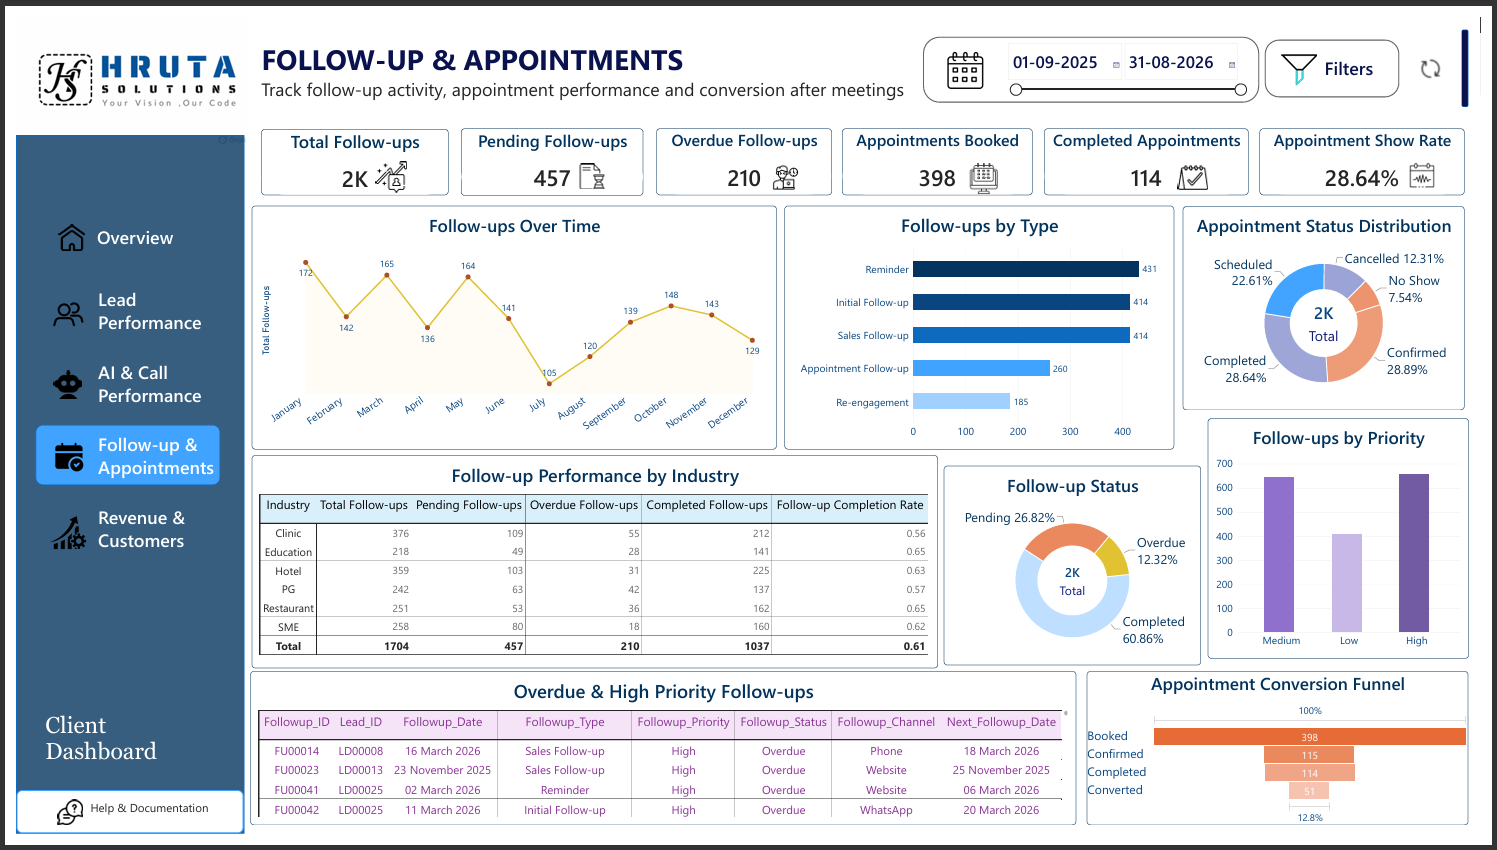

The page's visual inventory and layout, read from the dashboard file:
{"tool":"powerbi","page":{"name":"FOLLOW-UP & APPOINTMENTS","canvas":[3050,1700],"ordinal":3},"visuals":[{"type":"image","box":[0,0,486,270],"z":0},{"type":"shape","box":[0,246,474,1454],"z":1000},{"type":"textbox","box":[59.8,1447.1,364.6,162.4],"z":2000},{"type":"shape","box":[3010.7,25,14.3,160.7],"z":3000},{"type":"shape","box":[39.9,848.9,384.6,125.3],"z":4000},{"type":"textbox","box":[40,431.7,373.3,91.7],"z":5000},{"type":"image","box":[71.7,431.7,86.7,55],"z":6000},{"type":"textbox","box":[170,560,288.3,123.3],"z":7000},{"type":"textbox","box":[170,713.3,243.3,106.7],"z":8000},{"type":"textbox","box":[170,863.3,288.3,103.3],"z":9000},{"type":"textbox","box":[170,1015,255,111.7],"z":10000},{"type":"shape","box":[0,1610,473.3,90],"z":11000},{"type":"textbox","box":[112,1630,346,70],"z":12000},{"type":"image","box":[71.7,881.7,75,68.3],"z":13000},{"type":"image","box":[60,1035,95,76.7],"z":14000},{"type":"image","box":[78.3,731.7,60,68.3],"z":15000},{"type":"image","box":[73.3,576.7,70,90],"z":16000},{"type":"image","box":[70,1630,85,53.3],"z":17000},{"type":"textbox","box":[509.9,45.6,1549.6,162.4],"z":18000},{"type":"shape","box":[1888.6,39.9,700.7,136.7],"z":19000},{"type":"shape","box":[2600.7,45.6,280,120],"z":20000},{"type":"textbox","box":[2674.8,79.8,202.2,82.6],"z":21000},{"type":"image","box":[2626.4,71.2,95,75],"z":22000},{"type":"cardVisual","title":"Total Follow-ups","fields":{"Data":["AIHuman.Total Follow-ups"]},"box":[510,231.7,390,138.3],"z":23000},{"type":"cardVisual","title":"Pending Follow-ups","fields":{"Data":["Customers.Pending Follow-ups"]},"box":[925.7,231.4,380,140],"z":24000},{"type":"cardVisual","title":"Overdue Follow-ups","fields":{"Data":["Followups.Overdue Follow-ups"]},"box":[1332.9,231.4,365.7,138.6],"z":25000},{"type":"cardVisual","title":"Appointments Booked","fields":{"Data":["Appointments.Appointments_Booked"]},"box":[1720,231.4,397.1,138.6],"z":26000},{"type":"cardVisual","title":"Completed Appointments","fields":{"Data":["Appointments.Completed_Appointments"]},"box":[2141.4,231.4,425.7,138.6],"z":27000},{"type":"cardVisual","title":"Appointment Show Rate","fields":{"Data":["Appointments.Appointment Show Rate"]},"box":[2590,231.4,427.1,138.6],"z":28000},{"type":"slicer","fields":{"Values":["Leads.Lead_Date"]},"box":[2059.5,48.4,507,159.5],"z":29000},{"type":"actionButton","box":[2892.9,58.6,106.7,96.7],"z":30000},{"type":"actionButton","box":[2626.4,71.2,95,75],"z":31000},{"type":"image","box":[1931.3,65.5,92,88],"z":32000},{"type":"image","box":[2893.3,301.7,70,53.3],"z":33000},{"type":"image","box":[2411.7,301.7,78.3,63.3],"z":34000},{"type":"image","box":[1976.7,305,76.7,63.3],"z":35000},{"type":"image","box":[1525,301.7,155,63.3],"z":36000},{"type":"image","box":[1133.3,305,131.7,53.3],"z":37000},{"type":"image","box":[718.3,300,126.7,65],"z":38000},{"type":"lineChart","title":"Follow-ups Over Time","fields":{"Category":["Followups.Followup_Date.Variation.Date Hierarchy.Month"],"Y":["AIHuman.Total Follow-ups"]},"box":[490,392,1094,508],"z":39000},{"type":"donutChart","title":"Follow-up Status","fields":{"Category":["Followups.Followup_Status"],"Y":["AIHuman.Total Follow-ups"]},"box":[1932,934,536,416],"z":40000},{"type":"clusteredColumnChart","title":"Follow-ups by Priority","fields":{"Category":["Followups.Followup_Priority"],"Y":["AIHuman.Total Follow-ups"]},"box":[2481.7,835,544.1,501.3],"z":41000},{"type":"clusteredBarChart","title":"Follow-ups by Type","fields":{"Category":["Followups.Followup_Type"],"Y":["AIHuman.Total Follow-ups"]},"box":[1600,392,812,508],"z":42000},{"type":"donutChart","title":"Appointment Status Distribution","fields":{"Category":["Appointments.Appointment_Status"],"Y":["Appointments.Appointments_Booked"]},"box":[2429.8,393.1,586.8,424.4],"z":43000},{"type":"funnel","title":"Appointment Conversion Funnel","fields":{"Category":["AppointmentFunnel.Stage"],"Y":["AIHuman.Appointment Funnel Value"]},"box":[2230.4,1361.6,794.7,321.9],"z":44000},{"type":"pivotTable","title":"Follow-up Performance by Industry","fields":{"Rows":["Leads.Industry"],"Values":["AIHuman.Total Follow-ups","Customers.Pending Follow-ups","Followups.Overdue Follow-ups","Followups.Completed Follow-ups","Followups.Follow-up Completion Rate"]},"box":[489.9,911.5,1430,444],"z":45000},{"type":"tableEx","title":"Overdue & High Priority Follow-ups","fields":{"Values":["Followups.Followup_ID","Followups.Lead_ID","Followups.Followup_Date","Followups.Followup_Type","Followups.Followup_Priority","Followups.Followup_Status","Followups.Followup_Channel","Followups.Next_Followup_Date"]},"box":[487.1,1361.6,1720.5,321.9],"z":46000},{"type":"actionButton","box":[39.9,1002.7,373.2,122.5],"z":47000},{"type":"actionButton","box":[14.2,418.7,427.3,122.5],"z":48000},{"type":"actionButton","box":[48.4,561.2,393.1,108.2],"z":49000},{"type":"actionButton","box":[28.5,700.7,413,133.9],"z":50000}]}

Visuals, with their boxes on the page's 3050x1700 design canvas (x1, y1, x2, y2). These are canvas units, not pixel positions in the 1497x850 screenshot, which may show the page scaled, cropped or inside an application window:
image: <box>0,0,486,270</box>
shape: <box>0,246,474,1700</box>
textbox: <box>60,1447,424,1610</box>
shape: <box>3011,25,3025,186</box>
shape: <box>40,849,424,974</box>
textbox: <box>40,432,413,523</box>
image: <box>72,432,158,487</box>
textbox: <box>170,560,458,683</box>
textbox: <box>170,713,413,820</box>
textbox: <box>170,863,458,967</box>
textbox: <box>170,1015,425,1127</box>
shape: <box>0,1610,473,1700</box>
textbox: <box>112,1630,458,1700</box>
image: <box>72,882,147,950</box>
image: <box>60,1035,155,1112</box>
image: <box>78,732,138,800</box>
image: <box>73,577,143,667</box>
image: <box>70,1630,155,1683</box>
textbox: <box>510,46,2060,208</box>
shape: <box>1889,40,2589,177</box>
shape: <box>2601,46,2881,166</box>
textbox: <box>2675,80,2877,162</box>
image: <box>2626,71,2721,146</box>
"Total Follow-ups" cardVisual: <box>510,232,900,370</box>
"Pending Follow-ups" cardVisual: <box>926,231,1306,371</box>
"Overdue Follow-ups" cardVisual: <box>1333,231,1699,370</box>
"Appointments Booked" cardVisual: <box>1720,231,2117,370</box>
"Completed Appointments" cardVisual: <box>2141,231,2567,370</box>
"Appointment Show Rate" cardVisual: <box>2590,231,3017,370</box>
slicer - Leads.Lead_Date: <box>2060,48,2566,208</box>
actionButton: <box>2893,59,3000,155</box>
actionButton: <box>2626,71,2721,146</box>
image: <box>1931,66,2023,154</box>
image: <box>2893,302,2963,355</box>
image: <box>2412,302,2490,365</box>
image: <box>1977,305,2053,368</box>
image: <box>1525,302,1680,365</box>
image: <box>1133,305,1265,358</box>
image: <box>718,300,845,365</box>
"Follow-ups Over Time" lineChart: <box>490,392,1584,900</box>
"Follow-up Status" donutChart: <box>1932,934,2468,1350</box>
"Follow-ups by Priority" clusteredColumnChart: <box>2482,835,3026,1336</box>
"Follow-ups by Type" clusteredBarChart: <box>1600,392,2412,900</box>
"Appointment Status Distribution" donutChart: <box>2430,393,3017,818</box>
"Appointment Conversion Funnel" funnel: <box>2230,1362,3025,1684</box>
"Follow-up Performance by Industry" pivotTable: <box>490,912,1920,1356</box>
"Overdue & High Priority Follow-ups" tableEx: <box>487,1362,2208,1684</box>
actionButton: <box>40,1003,413,1125</box>
actionButton: <box>14,419,442,541</box>
actionButton: <box>48,561,442,669</box>
actionButton: <box>28,701,442,835</box>
